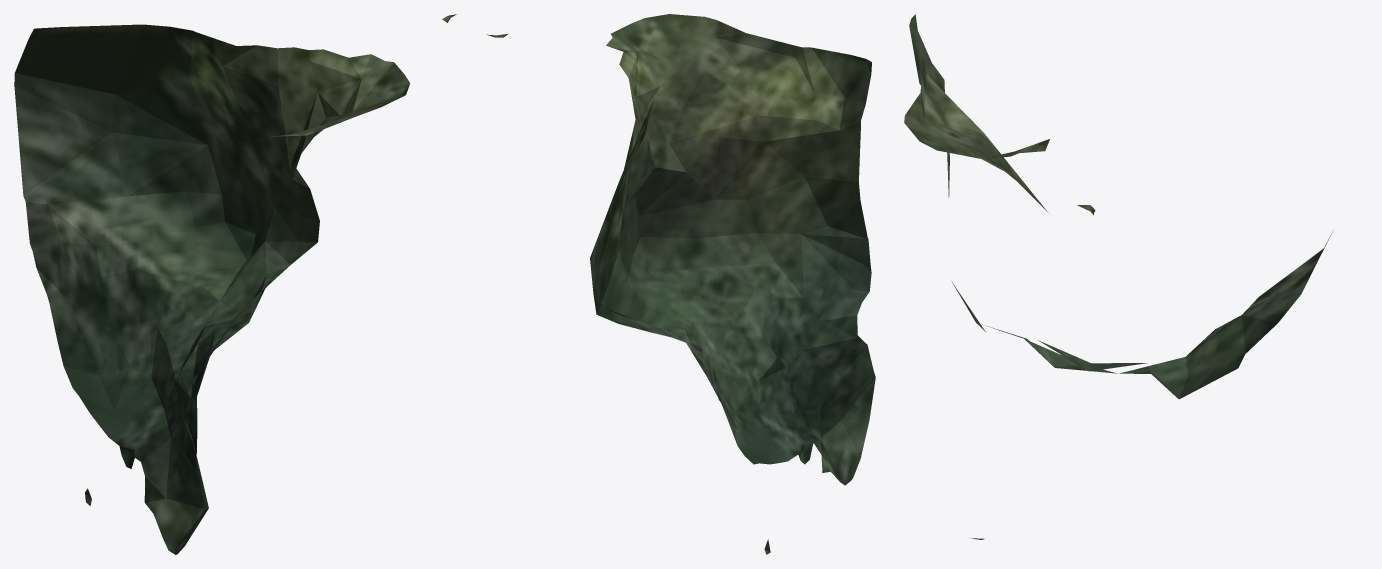
3 views of the same model, side by side, from view 1: azimuth 30°, elevation 25°; view 2: azimuth 150°, elevation 25°; view 3: azimuth 270°, elevation 25° (orthographic). The views are drawn at different scales.
Bounding box in the file's own units: 4.25 × 5.33 × 4.14.
1 material, 1 textured.
